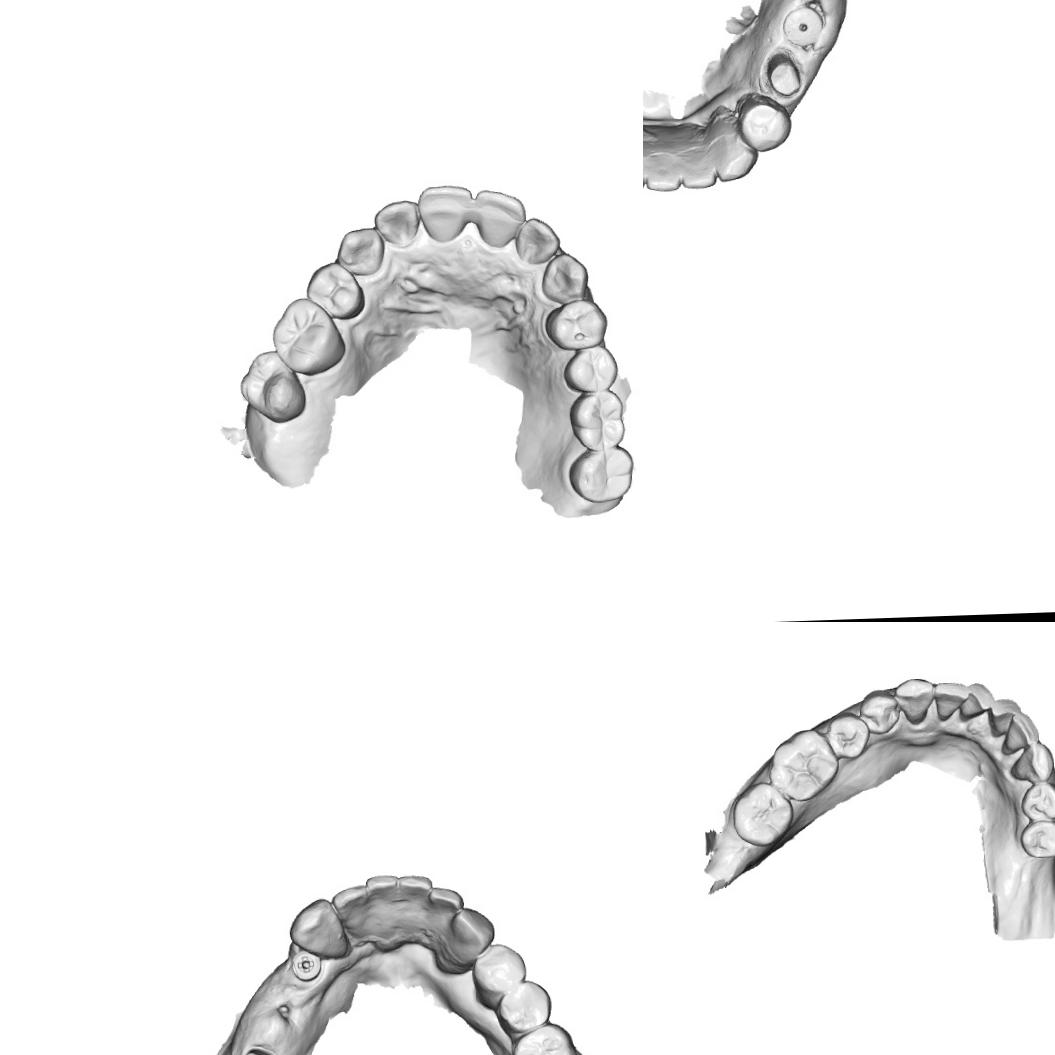abutment: (235, 1038, 281, 1055)
canine: (286, 894, 352, 965), (444, 906, 498, 963), (709, 128, 761, 182), (334, 226, 386, 278), (540, 252, 590, 306), (893, 675, 936, 728), (1006, 739, 1055, 784)
crown: (762, 50, 804, 102)
implant: (778, 2, 827, 49)
implant_plus: (287, 946, 326, 984)
incisor: (417, 182, 474, 244), (472, 188, 528, 250), (330, 881, 378, 946), (362, 872, 404, 940), (394, 874, 436, 940), (512, 216, 562, 266), (373, 199, 421, 247), (643, 140, 686, 193), (426, 886, 464, 944), (679, 142, 720, 194), (930, 679, 971, 722), (957, 680, 996, 723), (1001, 710, 1040, 753), (986, 696, 1022, 736)
molar: (268, 296, 348, 376), (766, 725, 840, 804), (236, 348, 308, 426), (730, 780, 797, 848), (566, 442, 635, 504), (566, 389, 626, 452), (508, 1020, 581, 1055)
premolar: (734, 88, 793, 156), (469, 940, 528, 1008), (303, 260, 366, 322), (492, 977, 556, 1036), (542, 297, 608, 351), (561, 344, 620, 394), (824, 710, 870, 761), (856, 687, 902, 737), (1017, 780, 1055, 823), (1017, 818, 1055, 860)
